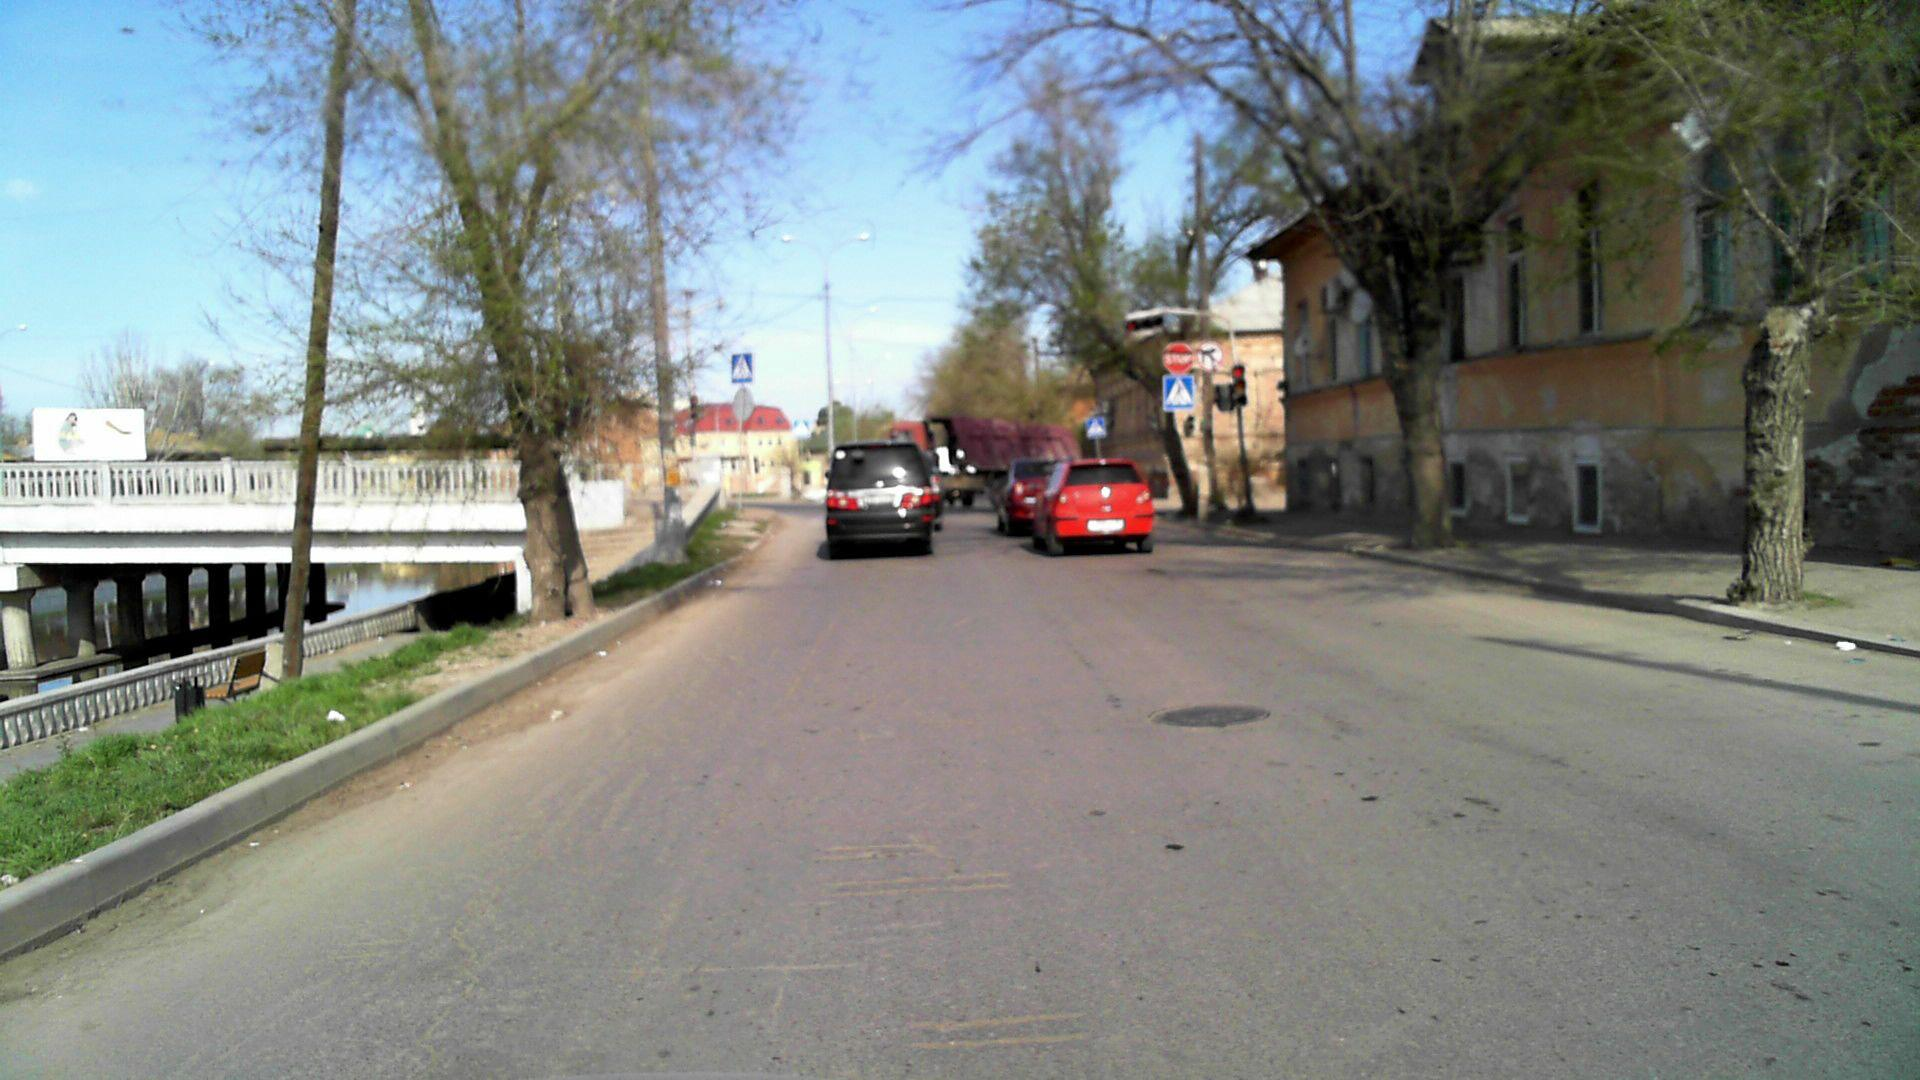2_5: (1163, 343, 1196, 373)
3_18_1: (1197, 338, 1222, 372)
5_19_1: (1160, 373, 1196, 409), (1085, 415, 1109, 438)
5_19_2: (732, 355, 753, 382)
